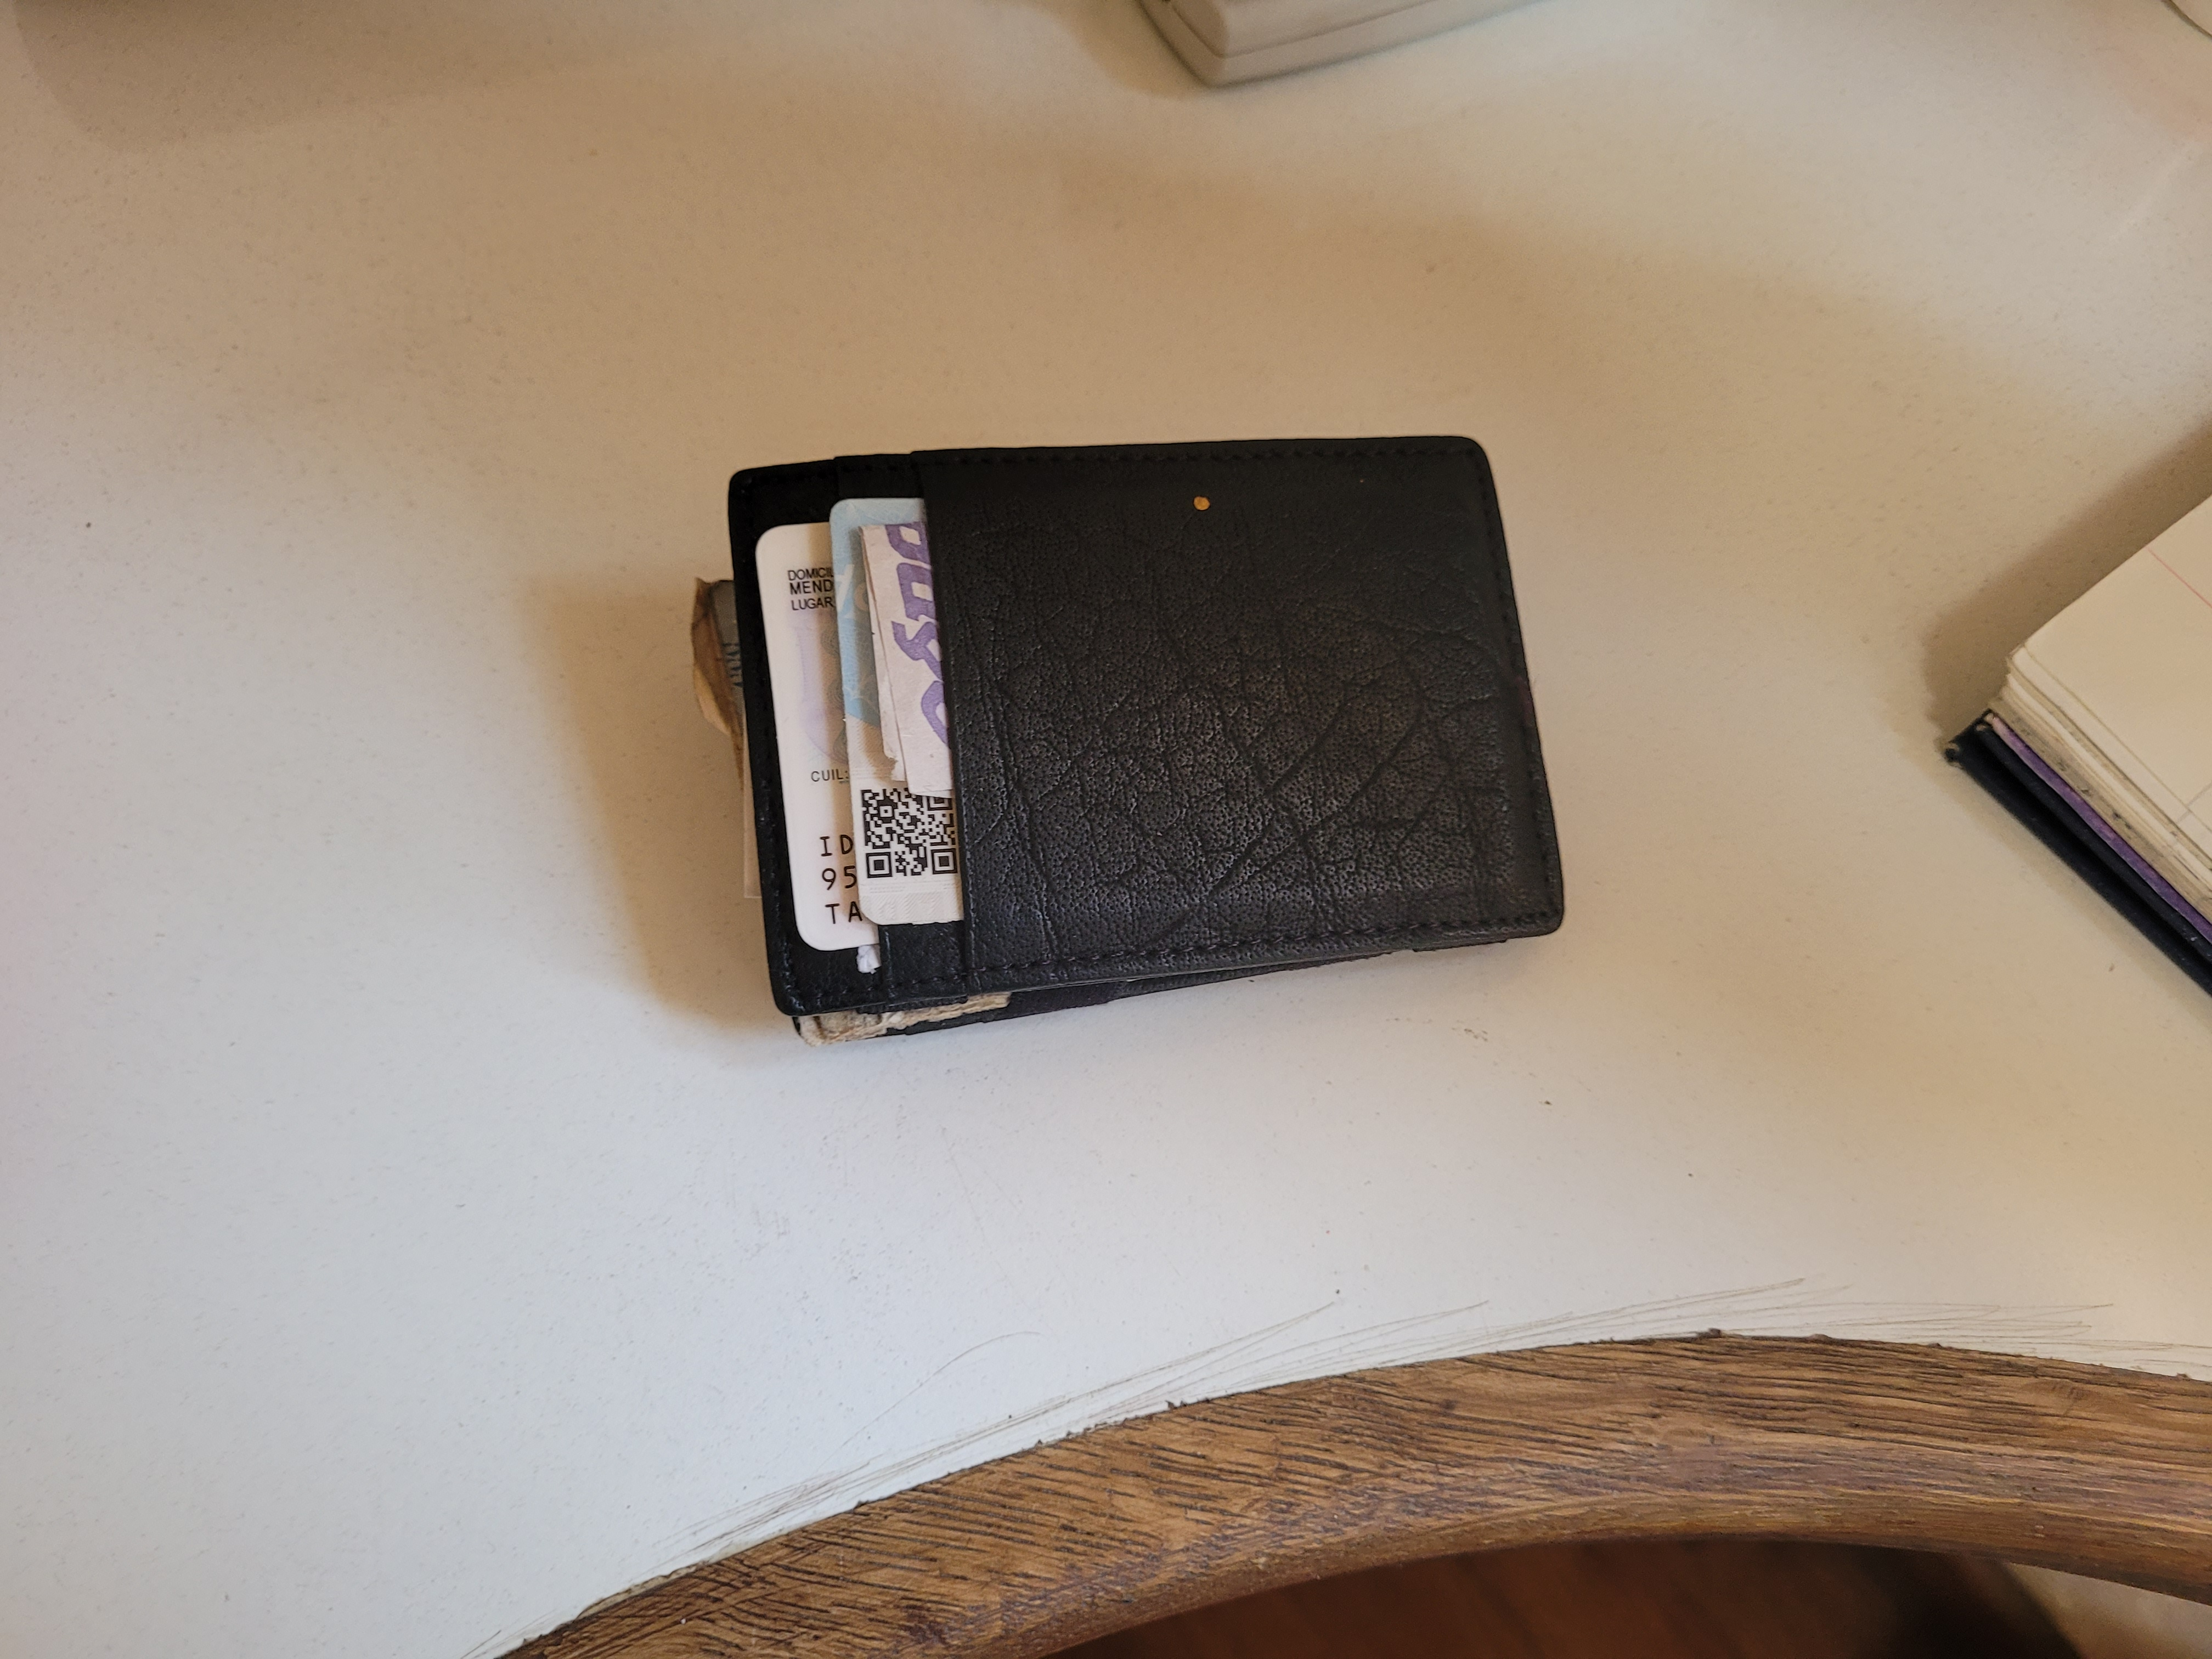billetera: (674, 420, 1590, 1063)
